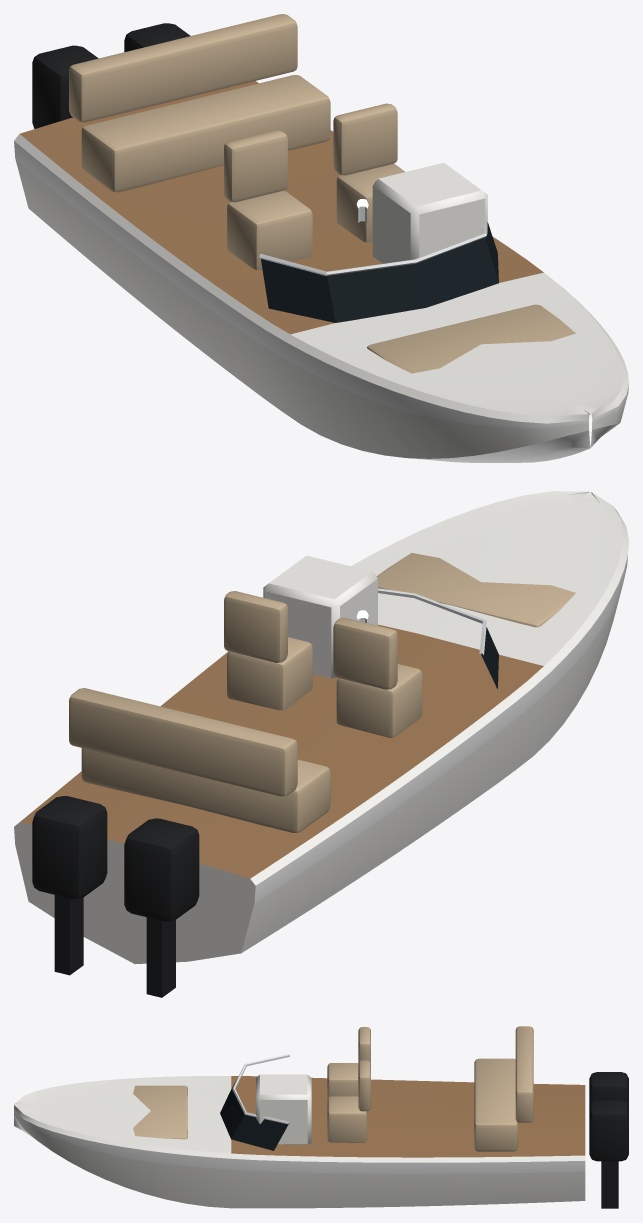
File: boat_speed.gltf
The picture shows the model from 3 angles, top to bottom: view 1: azimuth 30°, elevation 25°; view 2: azimuth 150°, elevation 25°; view 3: azimuth 270°, elevation 25°; orthographic projection. The views are drawn at different scales.
Visible parts, largest first — view 1: boat_speed_body; view 2: boat_speed_body; view 3: boat_speed_body.
Boxes of the visible parts, x1=… form: boat_speed_body: x1=14, y1=14, x2=628, y2=462; boat_speed_body: x1=14, y1=491, x2=628, y2=997; boat_speed_body: x1=14, y1=1026, x2=628, y2=1208.
Size of the model in its own units: 2.45 by 2.01 by 7.75.
